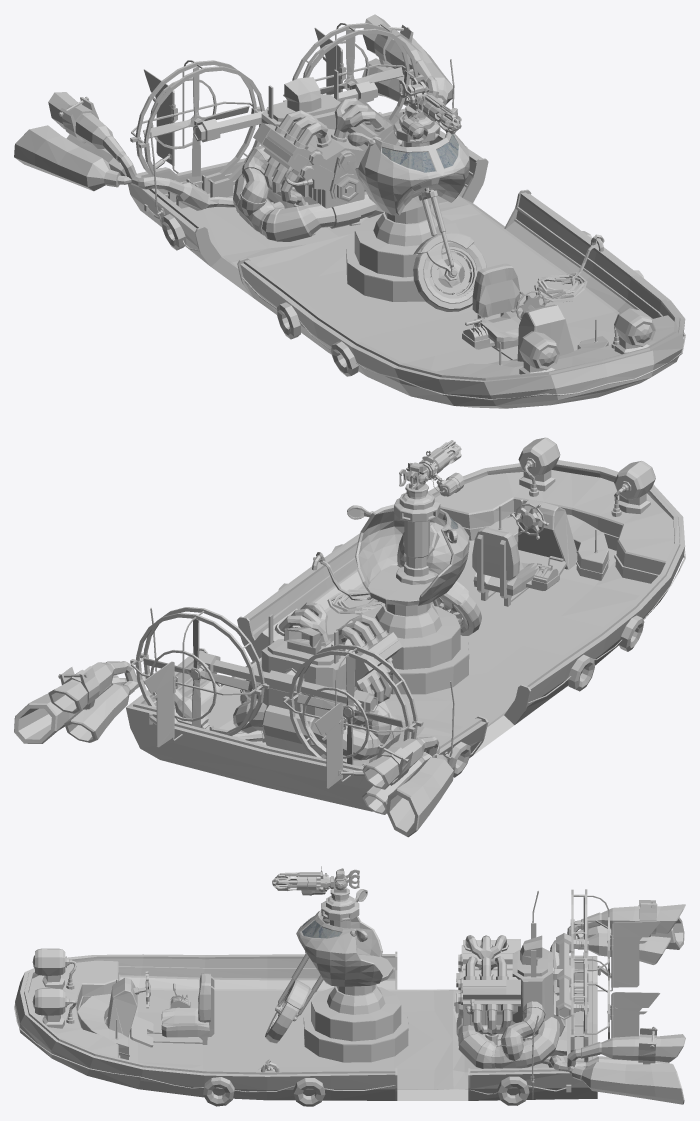
File: pigsyboat.obj
3 renders of one model, top to bottom at view 1: azimuth 30°, elevation 25°; view 2: azimuth 150°, elevation 25°; view 3: azimuth 270°, elevation 25°, orthographic. The views are drawn at different scales.
Parts seen in each view (by area): view 1: rdmobj01, rdmobj03, rdmobj00, rdmobj02; view 2: rdmobj01, rdmobj03, rdmobj00; view 3: rdmobj03, rdmobj01, rdmobj00, rdmobj02.
Boxes of the visible parts, x1,y1,x2,y2 form: rdmobj01: (14,14,685,400); rdmobj03: (128,108,685,408); rdmobj00: (346,77,486,311); rdmobj02: (381,134,458,172); rdmobj01: (14,437,685,837); rdmobj03: (126,460,685,811); rdmobj00: (347,440,481,694); rdmobj03: (15,951,597,1100); rdmobj01: (14,889,685,1106); rdmobj00: (265,866,408,1062); rdmobj02: (302,916,341,938).
Size of the model in its own units: 634 by 329 by 1069.
